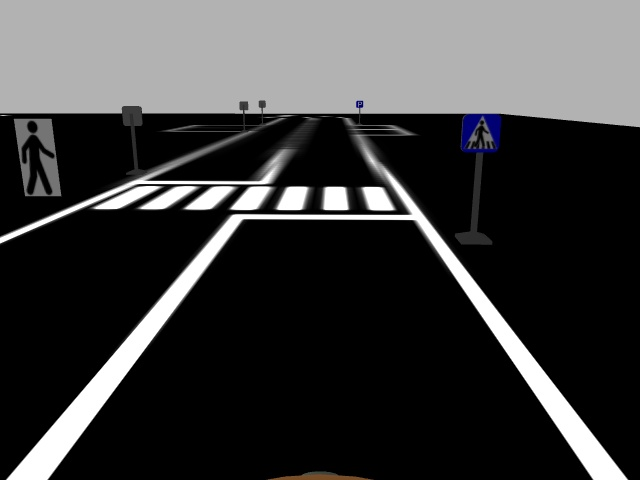crosswalk: (461, 112, 501, 156)
parking: (355, 99, 363, 109)
pedestrian: (12, 115, 63, 199)
